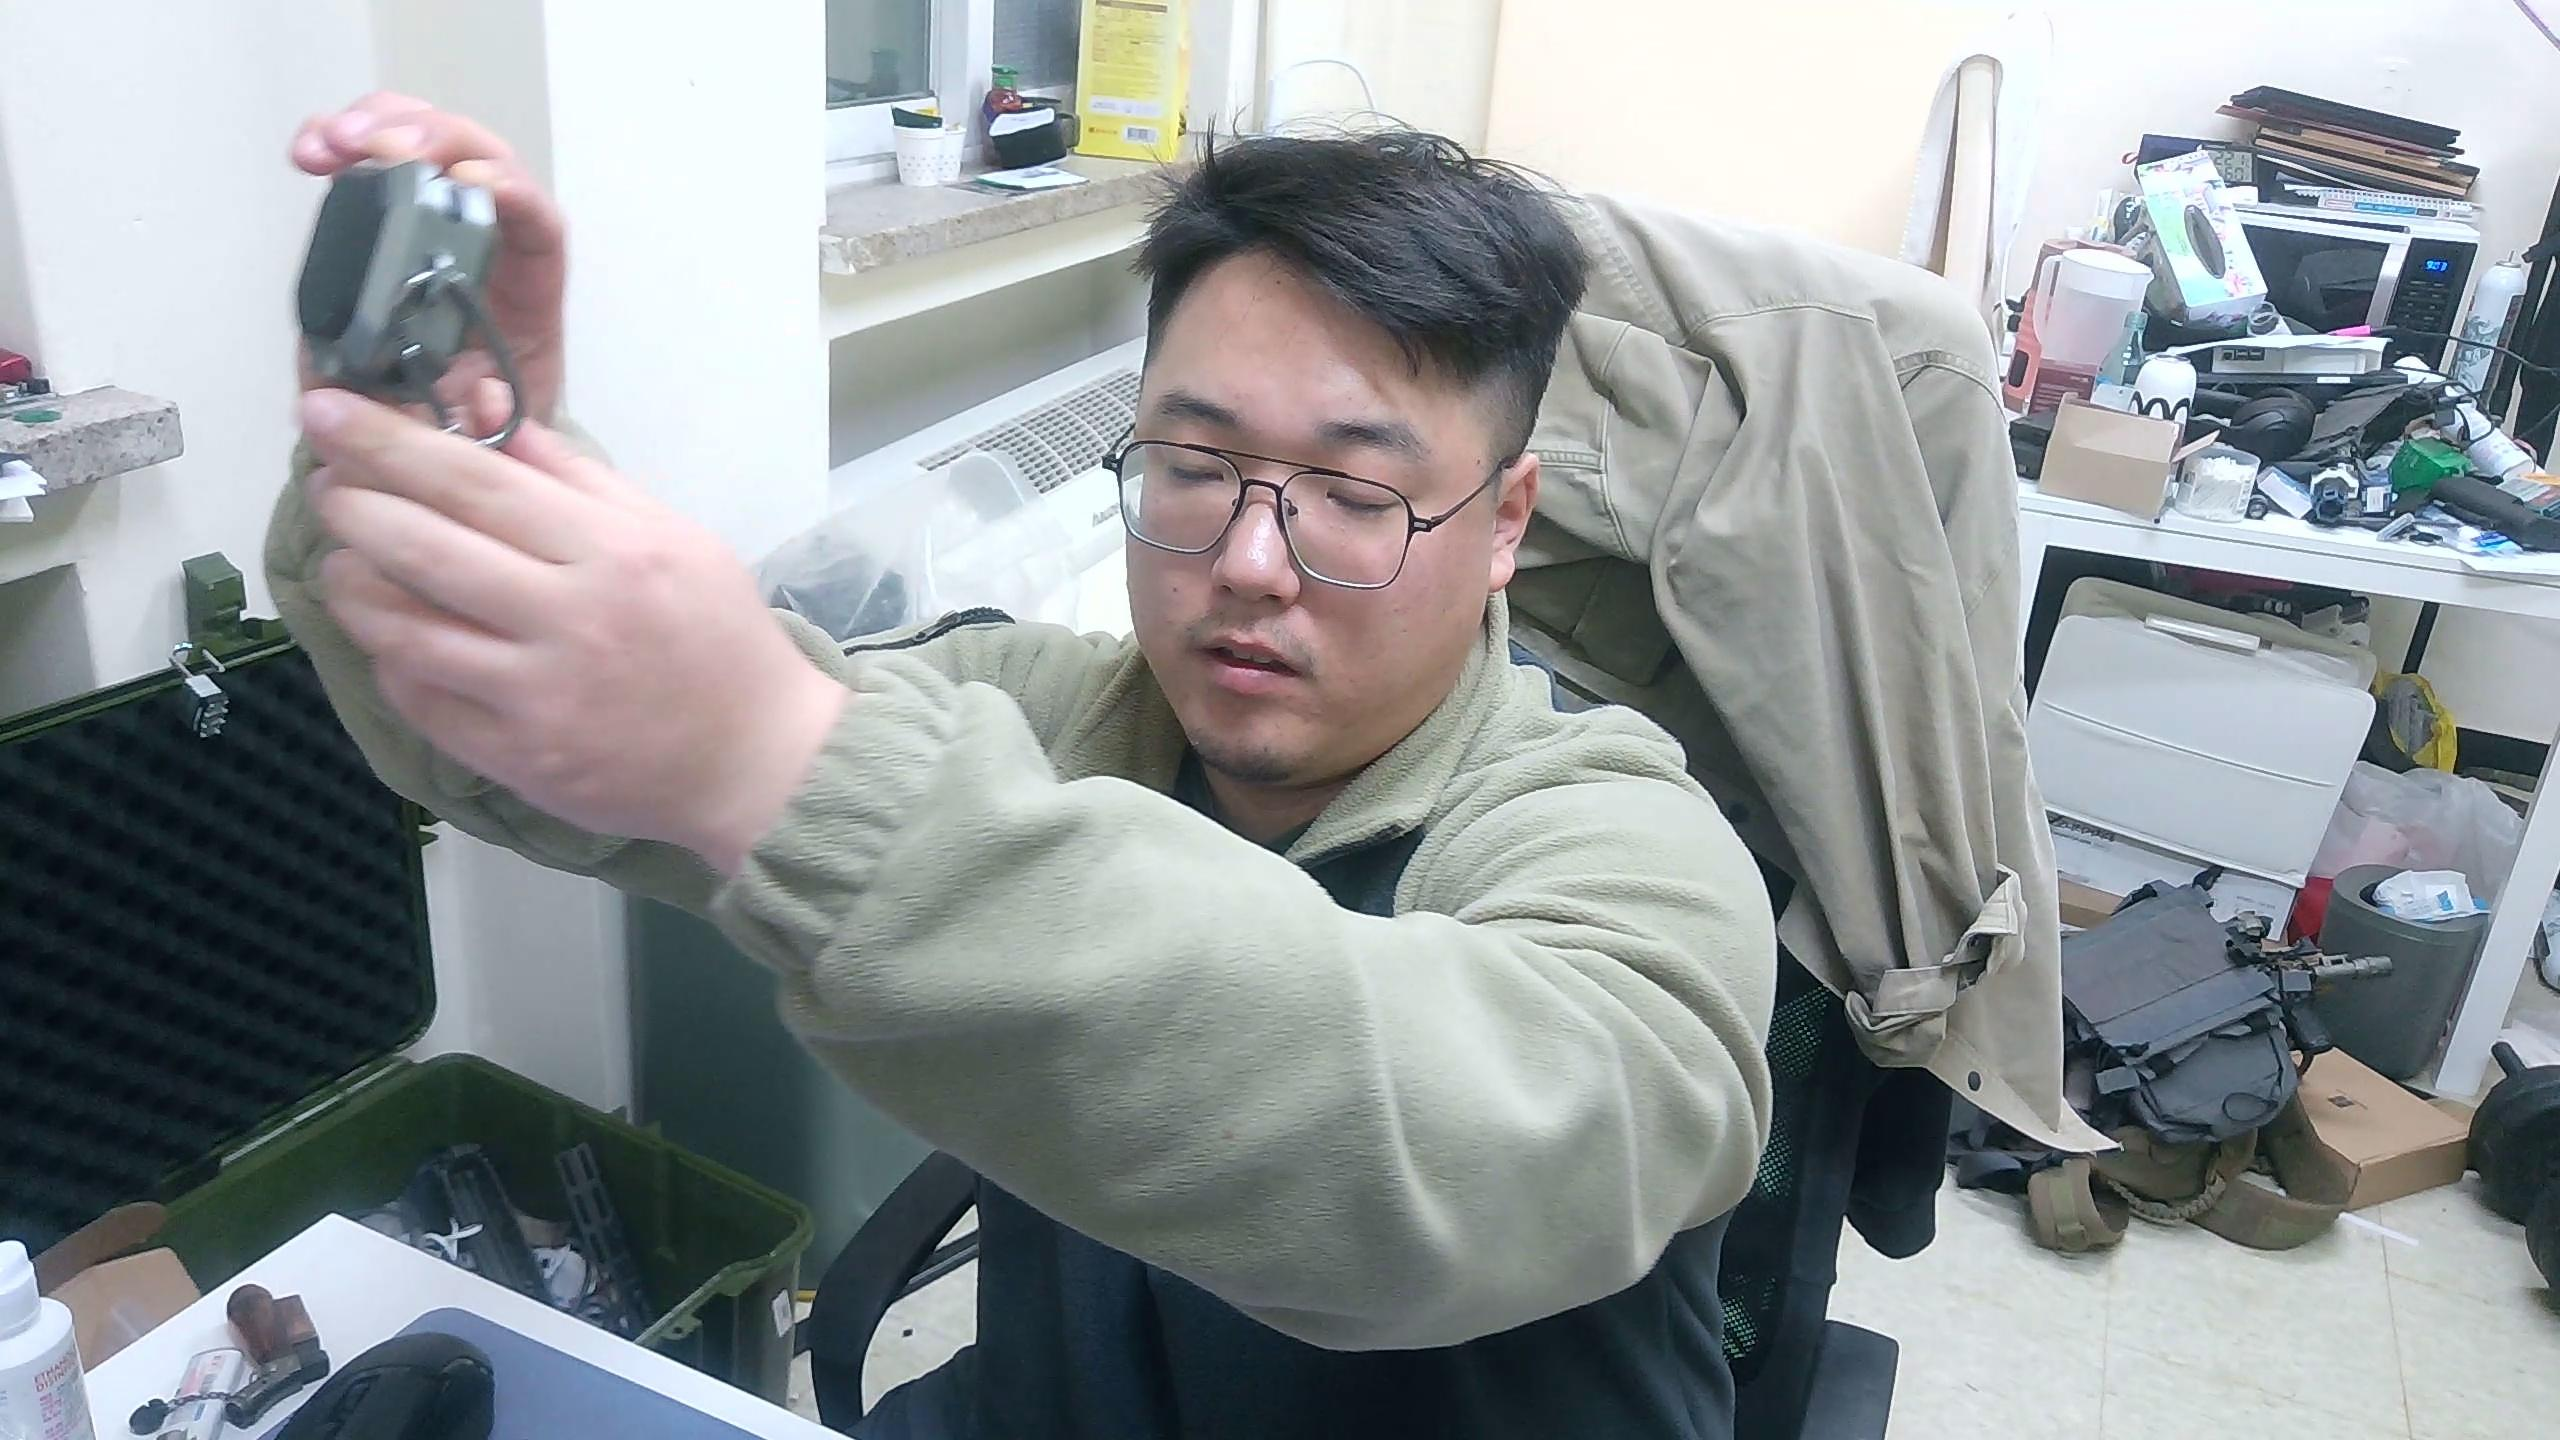blue_pliers: (294, 153, 526, 452)
